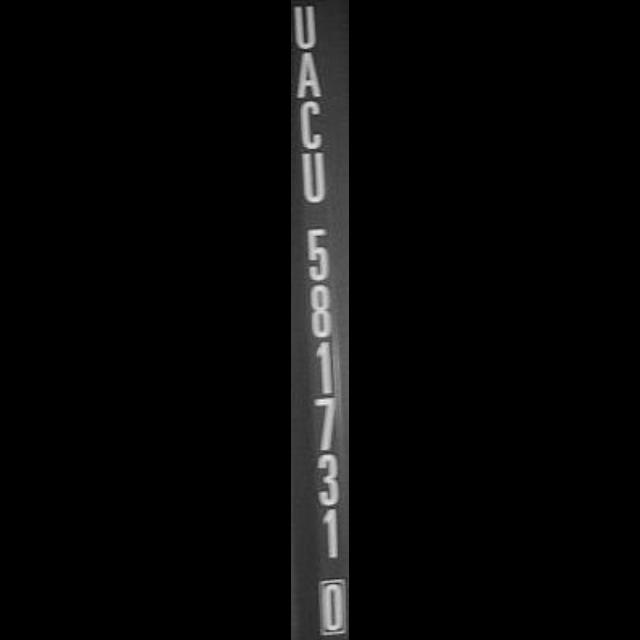0: (318, 580, 348, 632)
1: (308, 338, 342, 397), (314, 508, 342, 562)
3: (312, 452, 343, 508)
5: (304, 222, 334, 286)
7: (310, 394, 342, 452)
8: (305, 282, 337, 340)
a: (293, 51, 329, 100)
c: (296, 100, 332, 150)
u: (296, 147, 334, 210), (292, 4, 324, 48)
